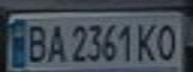1: (115, 20, 136, 63)
2: (66, 20, 87, 63)
3: (84, 20, 106, 63)
6: (103, 20, 121, 63)
A: (42, 20, 69, 64)
B: (21, 21, 51, 64)
K: (133, 19, 160, 62)
O: (151, 19, 181, 62)
